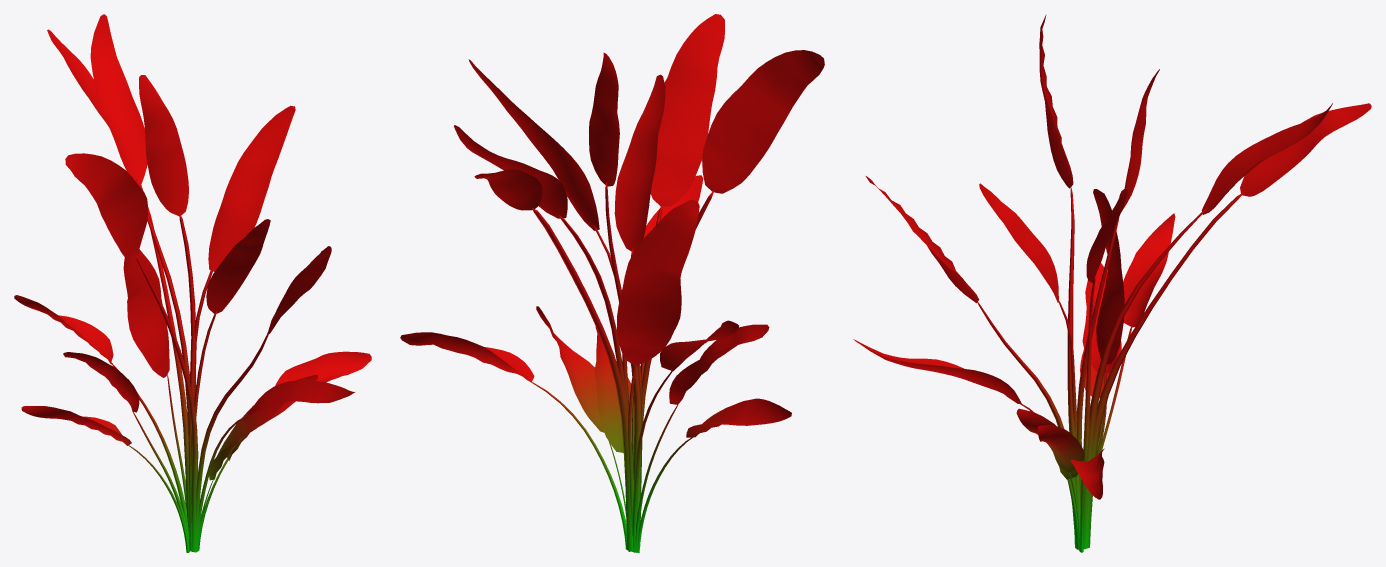
File: Bird Of Paradise_LOD3_Var12_wfypeifha.fbx
3 views of the same model, side by side, from view 1: azimuth 30°, elevation 25°; view 2: azimuth 150°, elevation 25°; view 3: azimuth 270°, elevation 25° (orthographic). The views are drawn at different scales.
Visible parts, largest first — view 1: _6enw_Var12_LOD3; view 2: _6enw_Var12_LOD3; view 3: _6enw_Var12_LOD3.
Part boxes in pixels (x1,y1,x2,y2): _6enw_Var12_LOD3: (14,14,371,552); _6enw_Var12_LOD3: (400,14,824,552); _6enw_Var12_LOD3: (853,14,1371,552).
Size of the model in its own units: 126 by 160 by 159.
